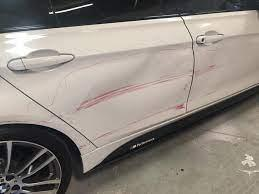doorouter-dent: (8, 25, 186, 127), (189, 11, 256, 110)
